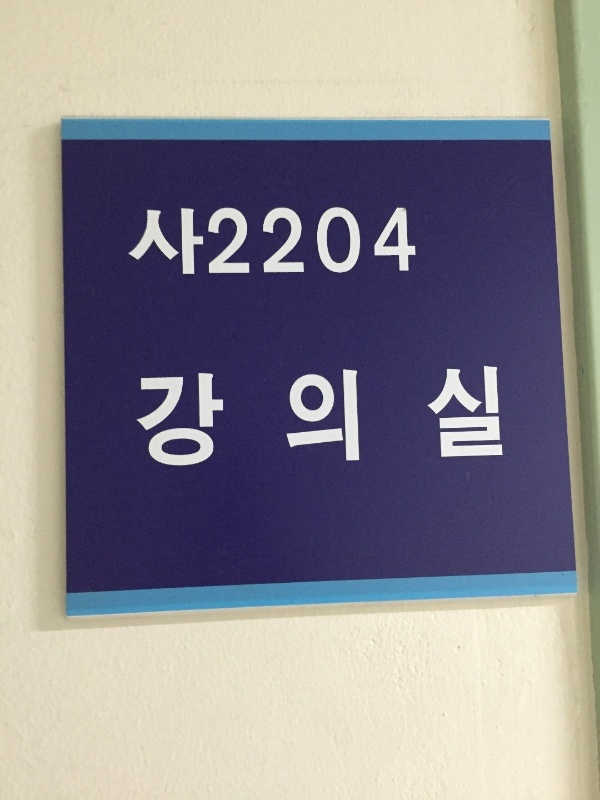text: (145, 359, 160, 478), (161, 359, 176, 478), (177, 359, 192, 478), (193, 359, 208, 478), (209, 359, 224, 478), (225, 359, 240, 478), (241, 359, 256, 478), (257, 359, 272, 478), (273, 359, 288, 478), (289, 359, 304, 478), (305, 359, 320, 478), (321, 359, 336, 478), (337, 359, 352, 478), (353, 359, 368, 478), (369, 359, 384, 478), (385, 359, 400, 478), (401, 359, 416, 478), (417, 359, 432, 478), (433, 359, 448, 478), (449, 359, 464, 478), (465, 359, 480, 478), (481, 359, 496, 478), (129, 202, 144, 288), (145, 202, 160, 288), (161, 202, 176, 288), (177, 202, 192, 288), (193, 202, 208, 288), (209, 202, 224, 288), (225, 202, 240, 288), (241, 202, 256, 288), (257, 202, 272, 288), (273, 202, 288, 288), (289, 202, 304, 288), (305, 202, 320, 288), (321, 202, 336, 288), (337, 202, 352, 288), (353, 202, 368, 288), (369, 202, 384, 288), (385, 202, 400, 288), (401, 202, 416, 288), (135, 359, 144, 478), (497, 359, 506, 478), (417, 202, 418, 288)
